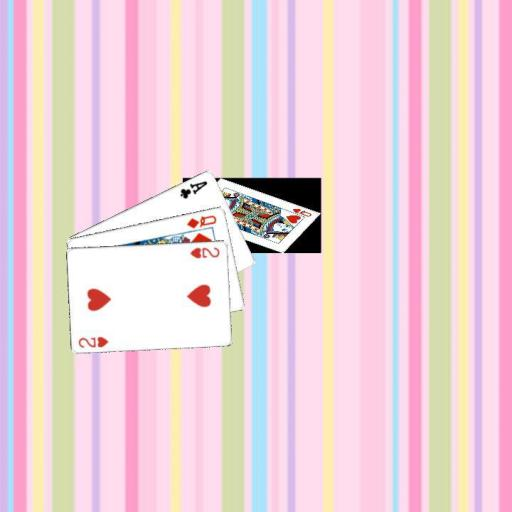2H: (76, 333, 111, 349), (187, 244, 221, 259)
AC: (177, 177, 209, 200)
QD: (184, 211, 219, 230)
